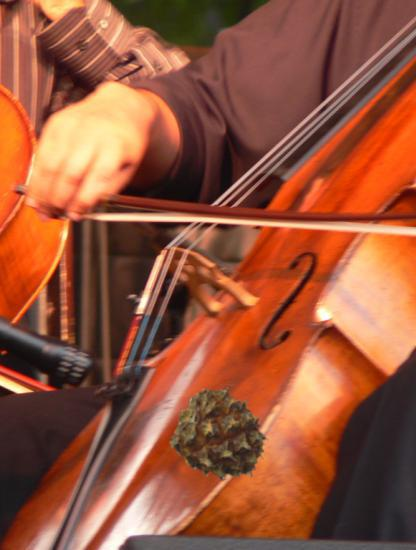Pineapple: (174, 386, 273, 485)
